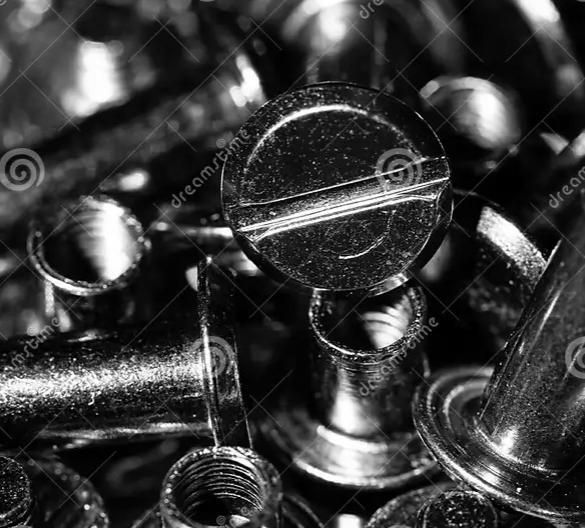slotted: (217, 83, 458, 298)
